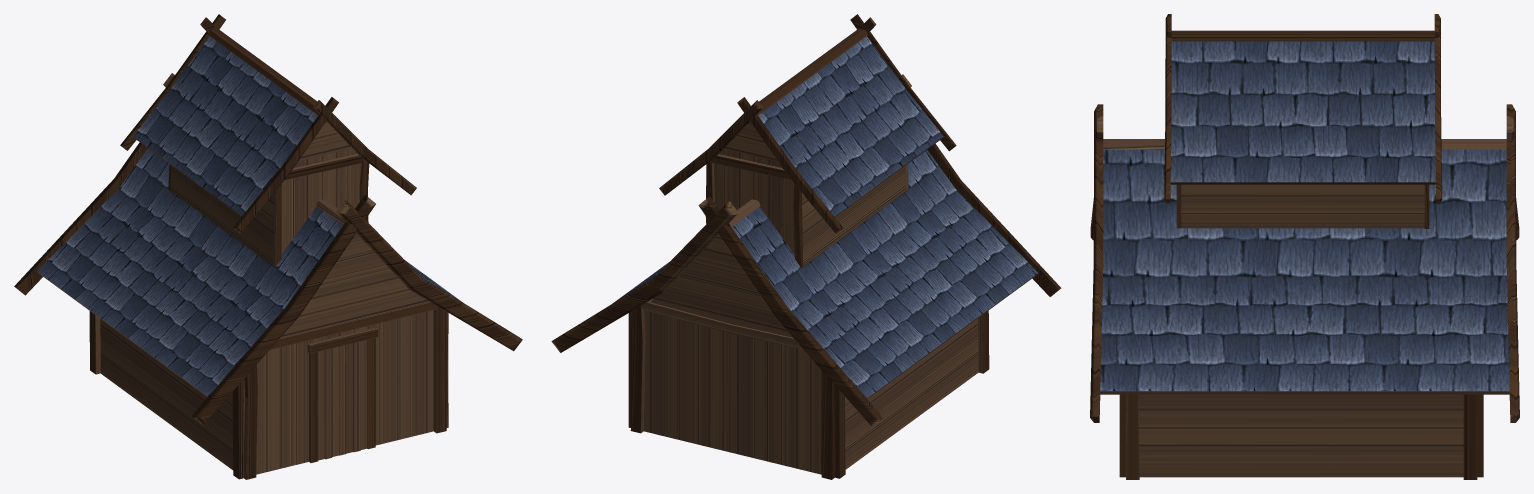
File: Viking_House_2.fbx
The picture shows the model from 3 angles, left to right: view 1: azimuth 30°, elevation 25°; view 2: azimuth 150°, elevation 25°; view 3: azimuth 270°, elevation 25°; orthographic projection. The views are drawn at different scales.
Parts seen in each view (by area): view 1: Viking_House_2; view 2: Viking_House_2; view 3: Viking_House_2.
Boxes of the visible parts, box(x1,y1,x2,y2) form: Viking_House_2: box(14, 14, 522, 479); Viking_House_2: box(551, 14, 1061, 479); Viking_House_2: box(1090, 14, 1519, 479).
Size of the model in its own units: 6.58 by 6.5 by 6.29.
